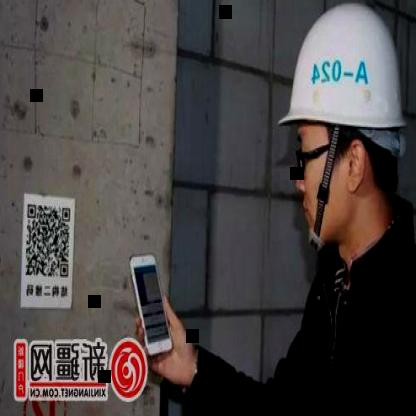helmet: (272, 0, 415, 272)
